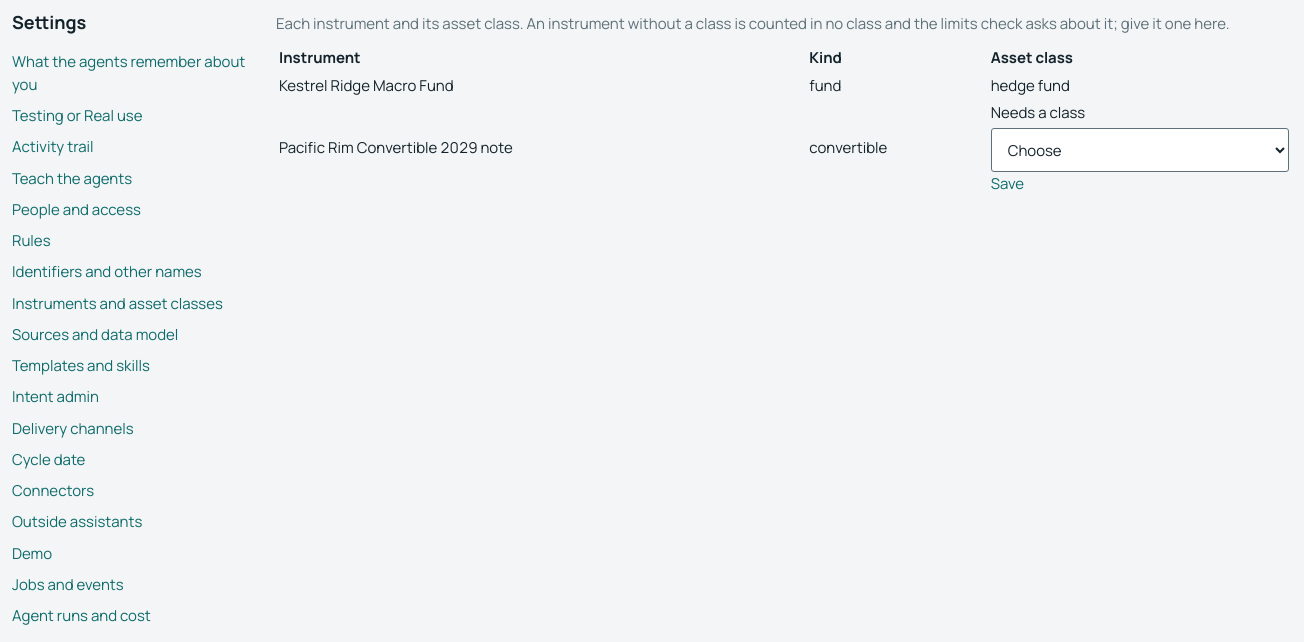
Scenario: Settings > instruments gives the note without a class one (P19)
Select "listed equity" in the dropdown named "Asset class for Pacific Rim Convertible 2029 note". click: [1140, 150]
box: [991,128,1289,172]
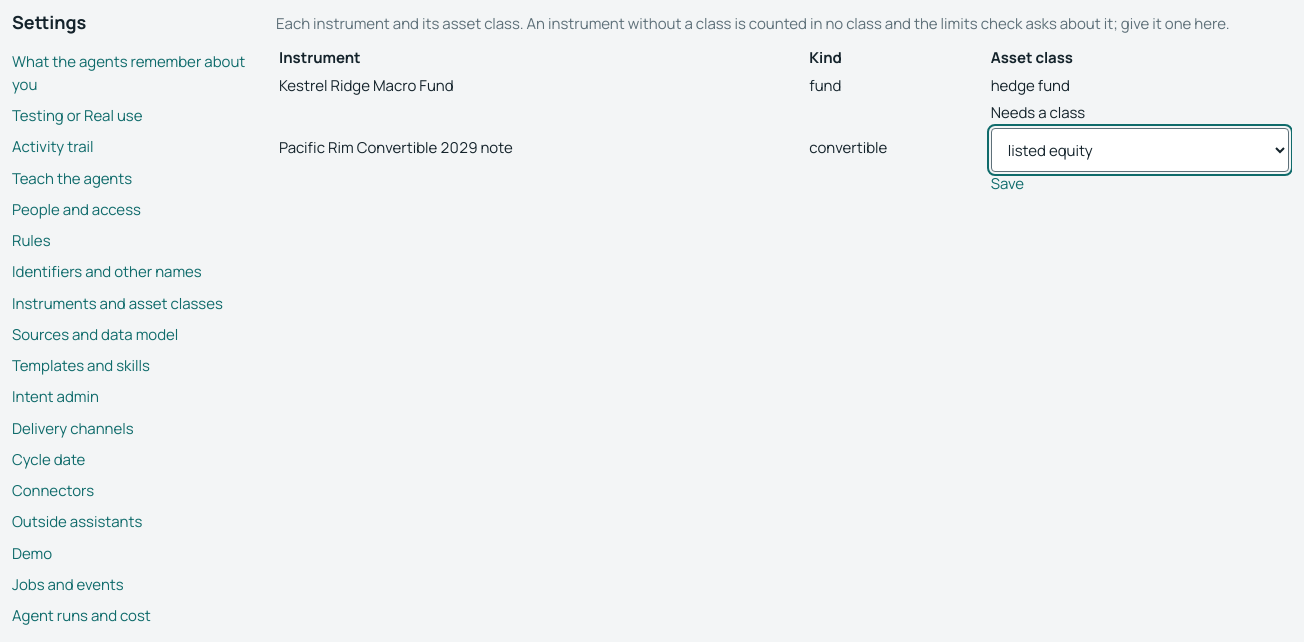
Click the button "Save". click: [1007, 184]
box: [991,172,1024,195]
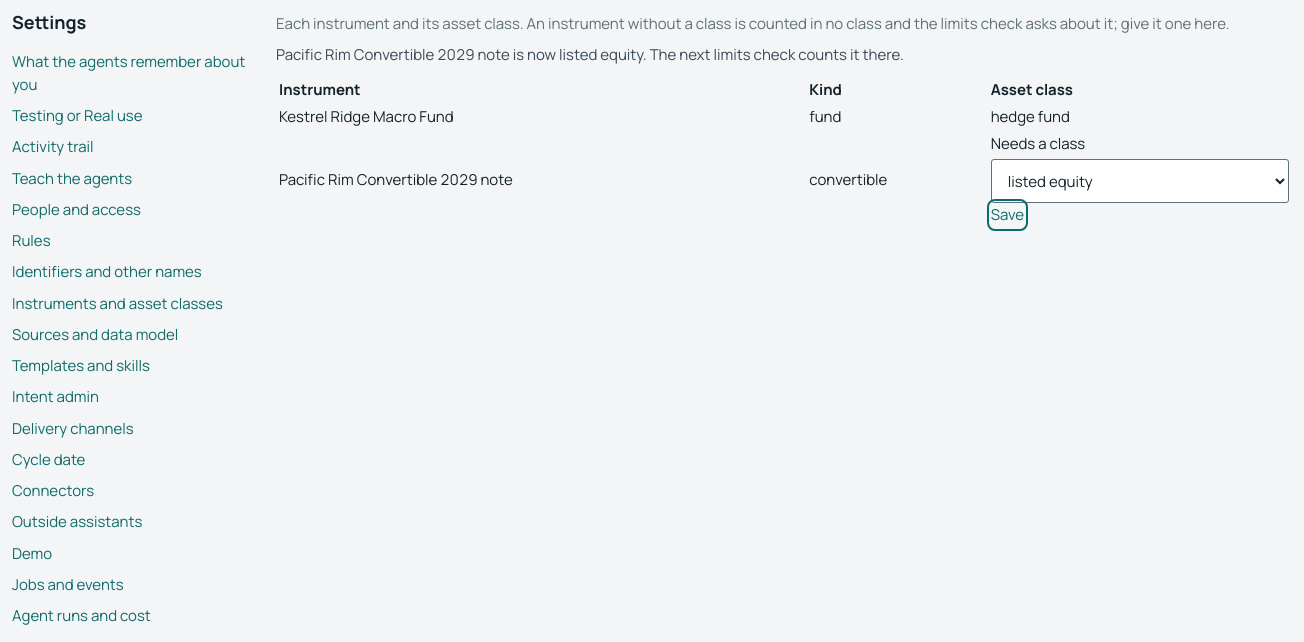
Check: the text "is now listed equity" is shown, box [276,44,904,65]
